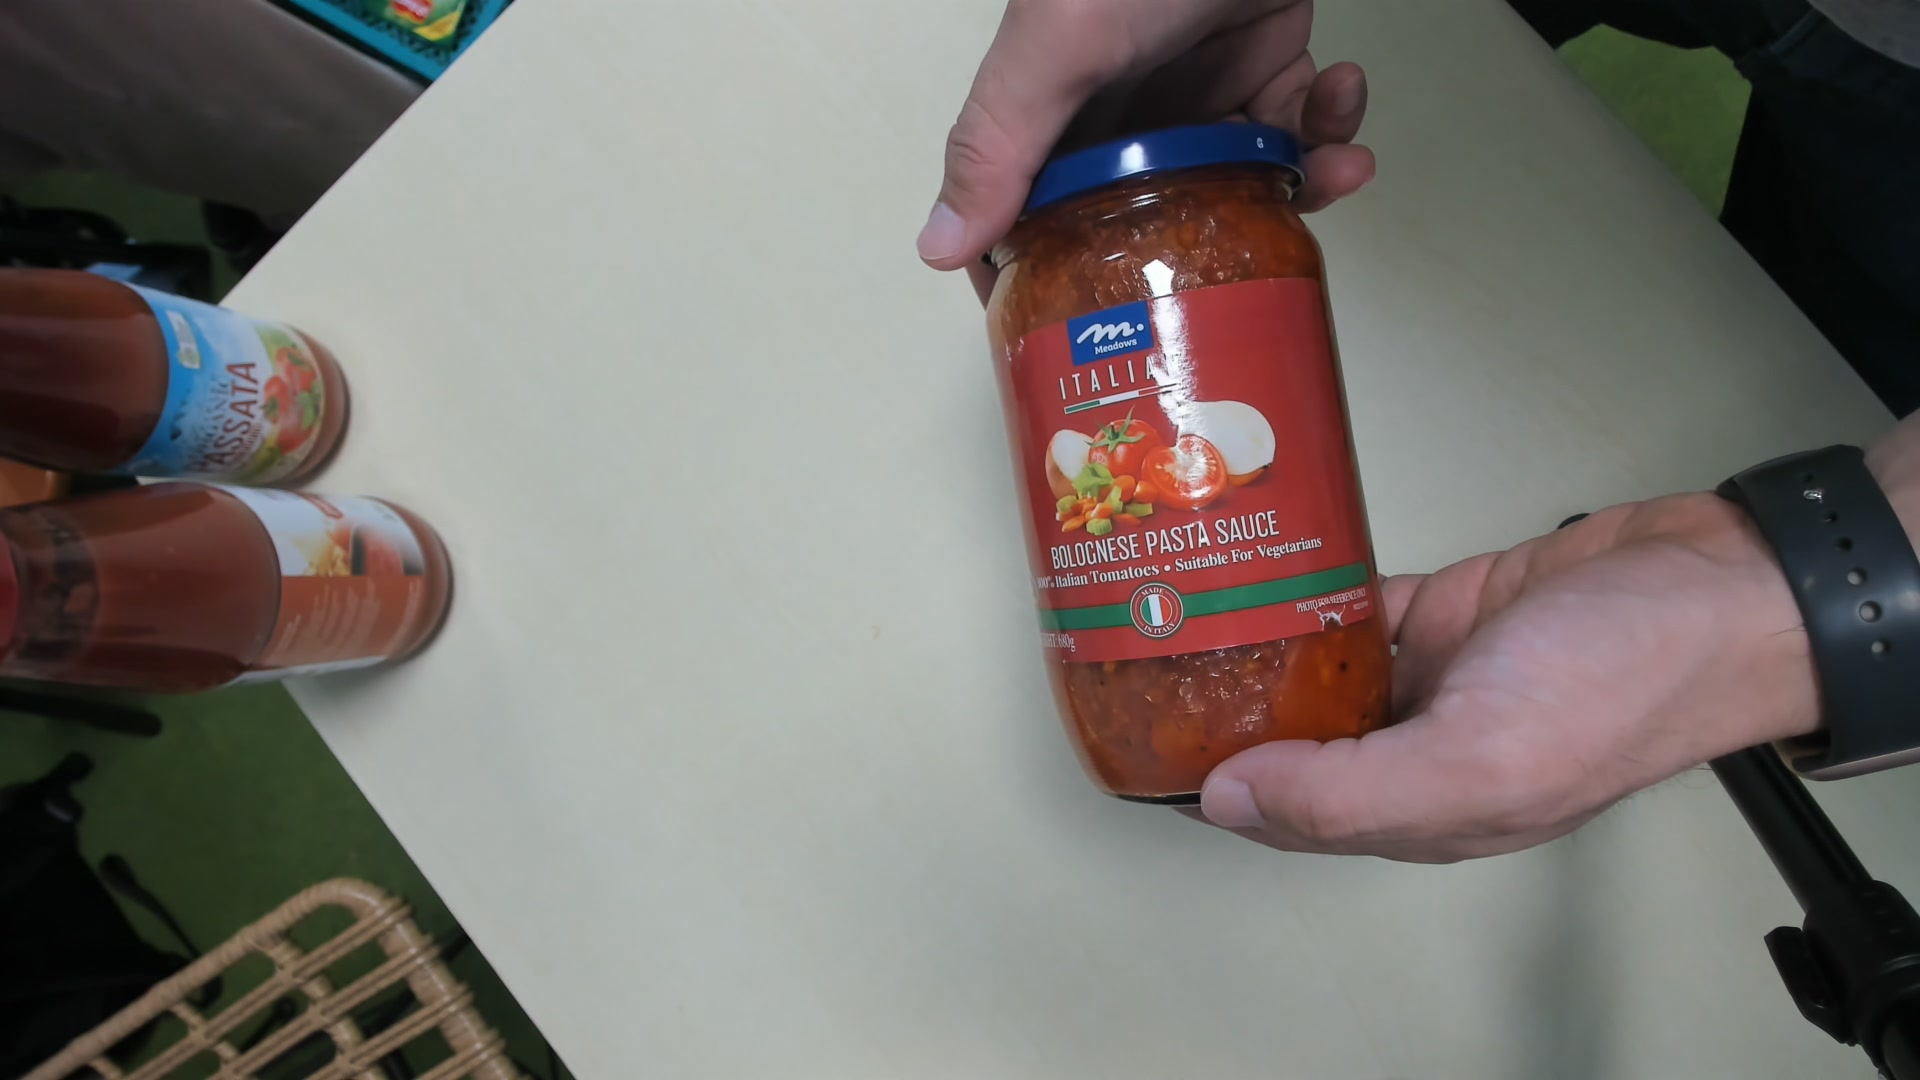PastaSauce_600-699g_Halal_NonHealthy: (992, 131, 1391, 814)
